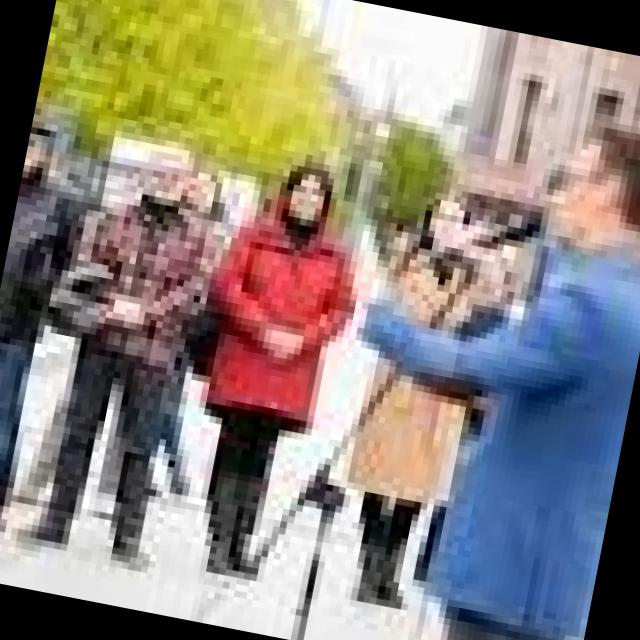Jacket: (332, 239, 507, 530), (52, 189, 228, 406), (192, 211, 352, 429)
